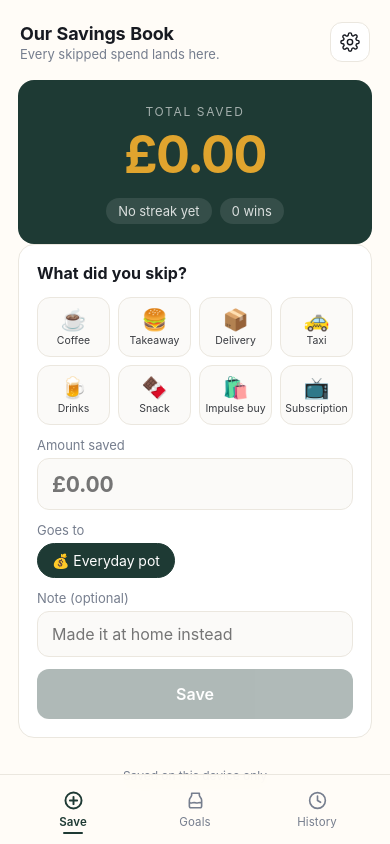
Scenario: banka kısayolu › ayarlarda alan vardır
This screenshot has width=390, height=844.
Click the button named "Settings" at {"x": 350, "y": 42}, box [330,22,370,62]
(page scrolled)
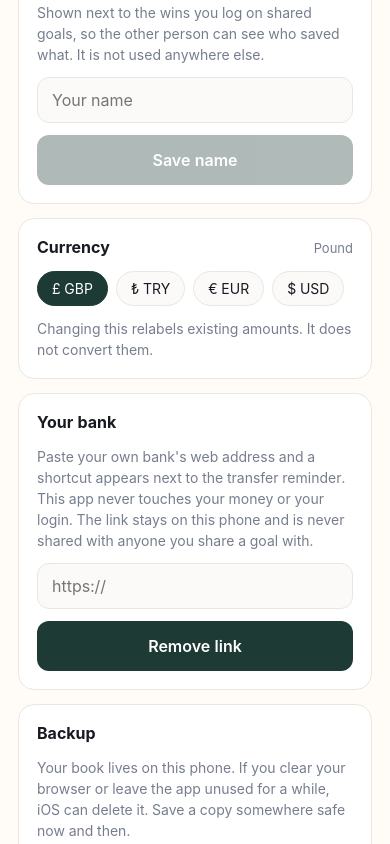
Expected: the heading "Your bank" is shown, [37,412,116,432]
